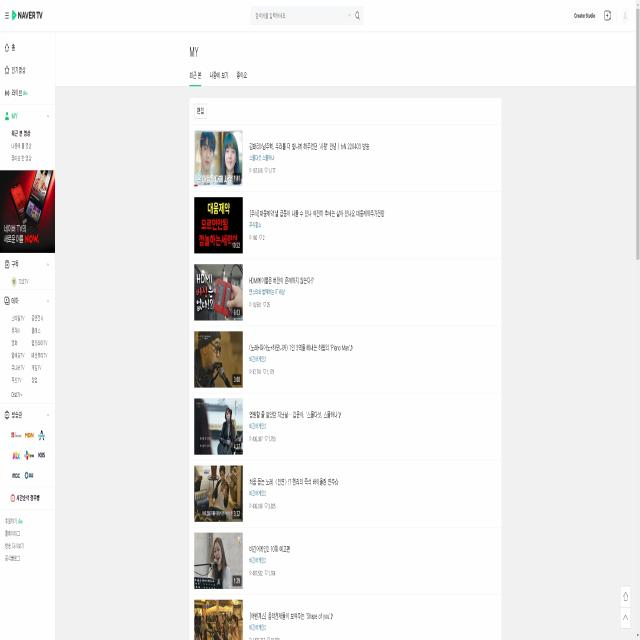menu-bar: (574, 7, 634, 26)
search: (250, 4, 364, 28)
tab-bar: (186, 63, 248, 89)
